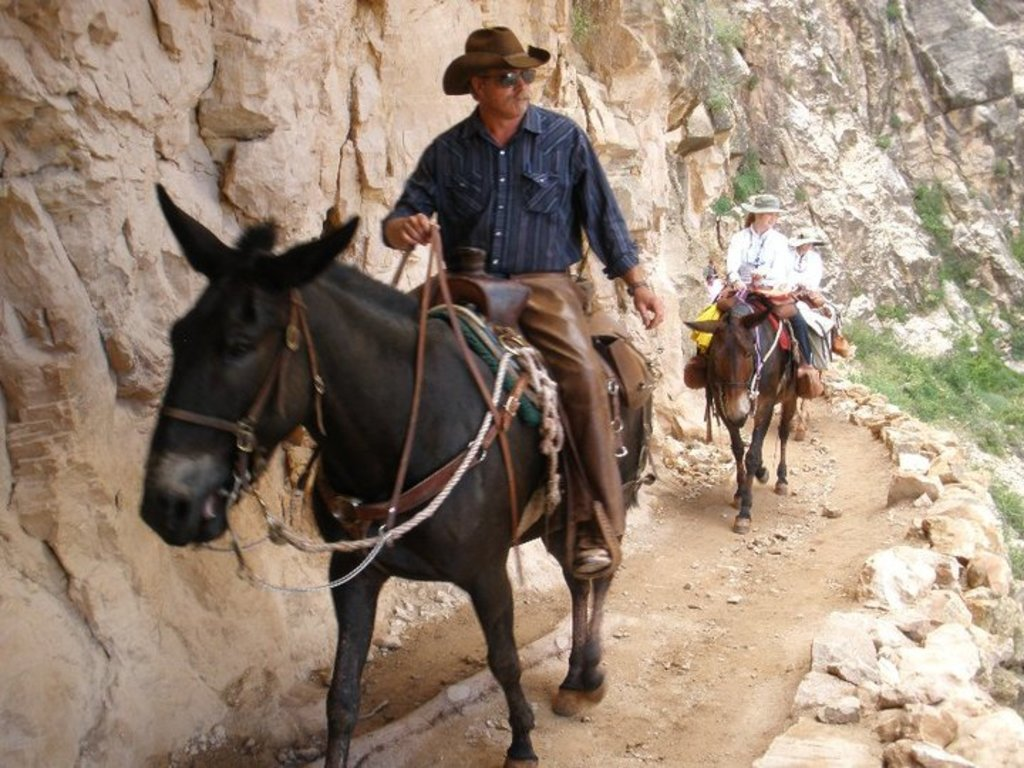horse: (682, 297, 798, 534)
